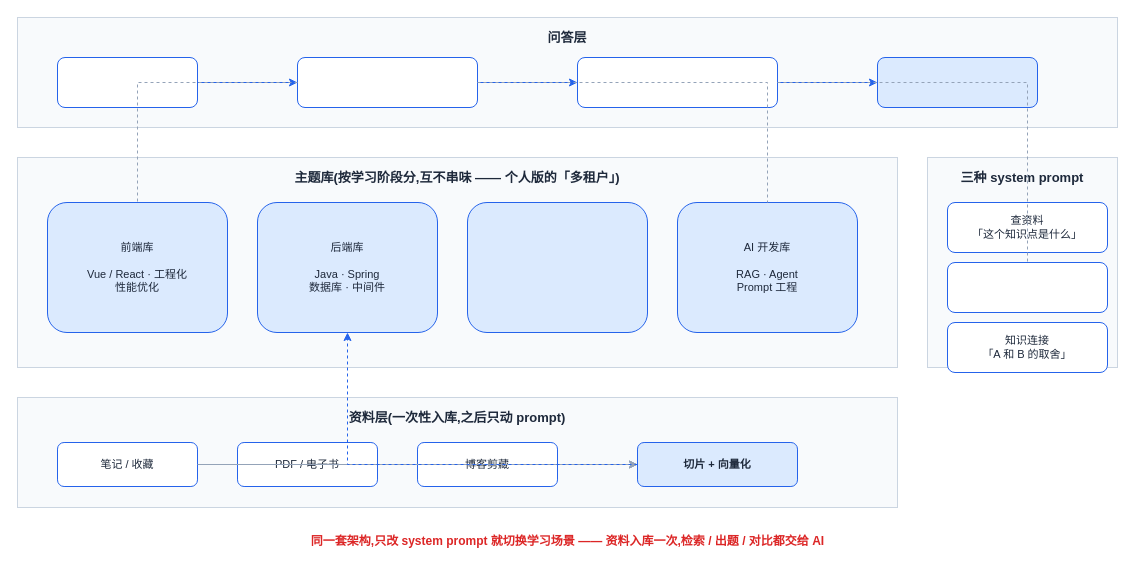
Some shapes in this 1135 by 585 pixel diagram are drawn without their labels. The shapes that lost their labels are listed below. From the top down, each one's centre as x and y in pixels, then its label:
At (127,82): "提问".
At (387,82): "检索(指定主题库)".
At (677,82): "大模型 + system prompt".
At (957,82): "回答(标出处)".
At (557,267): "架构库 微服务 · DDD 高并发设计".
At (1027,287): "模拟面试 「考考我」".
